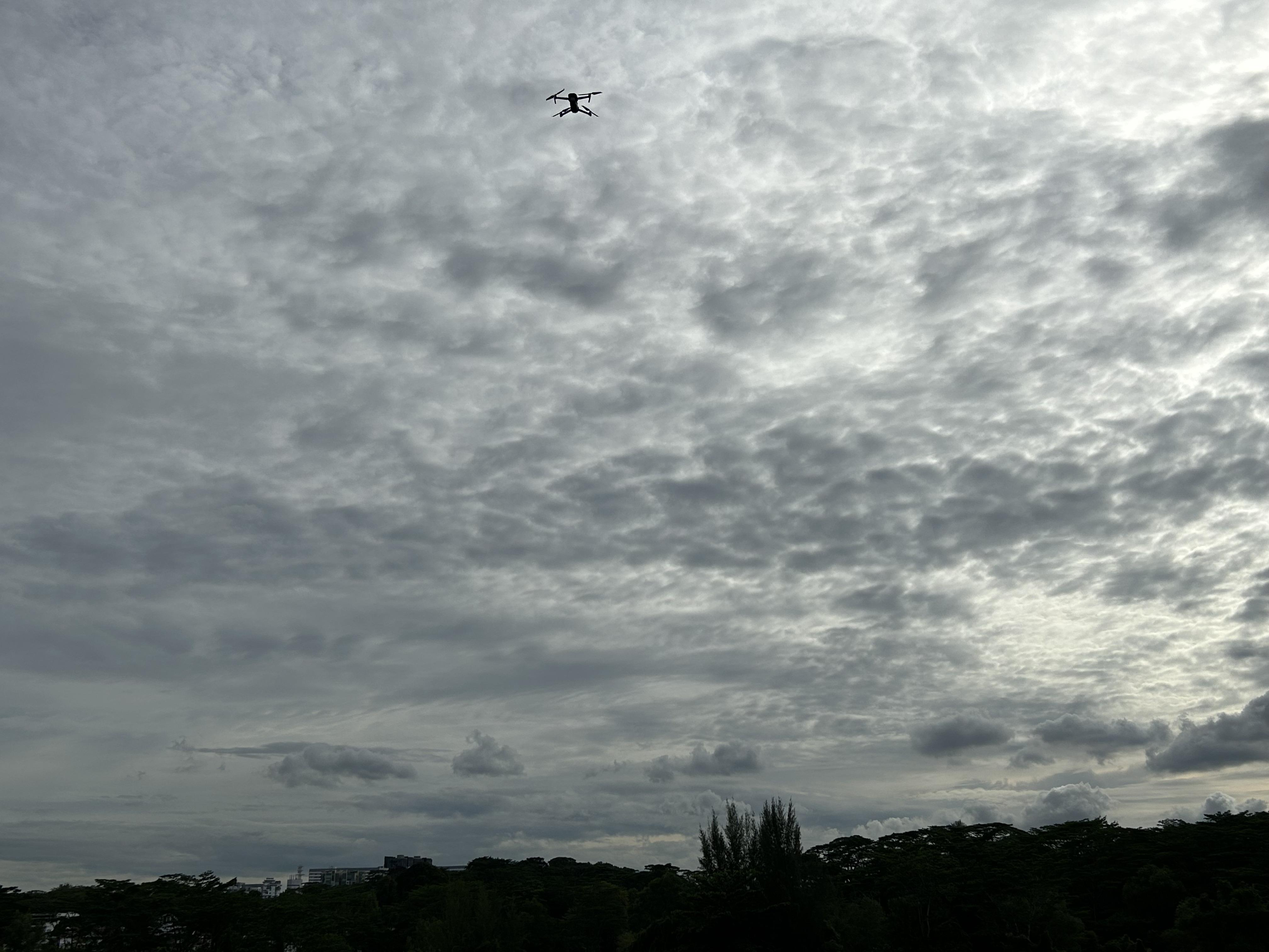drone_other: (545, 86, 604, 119)
